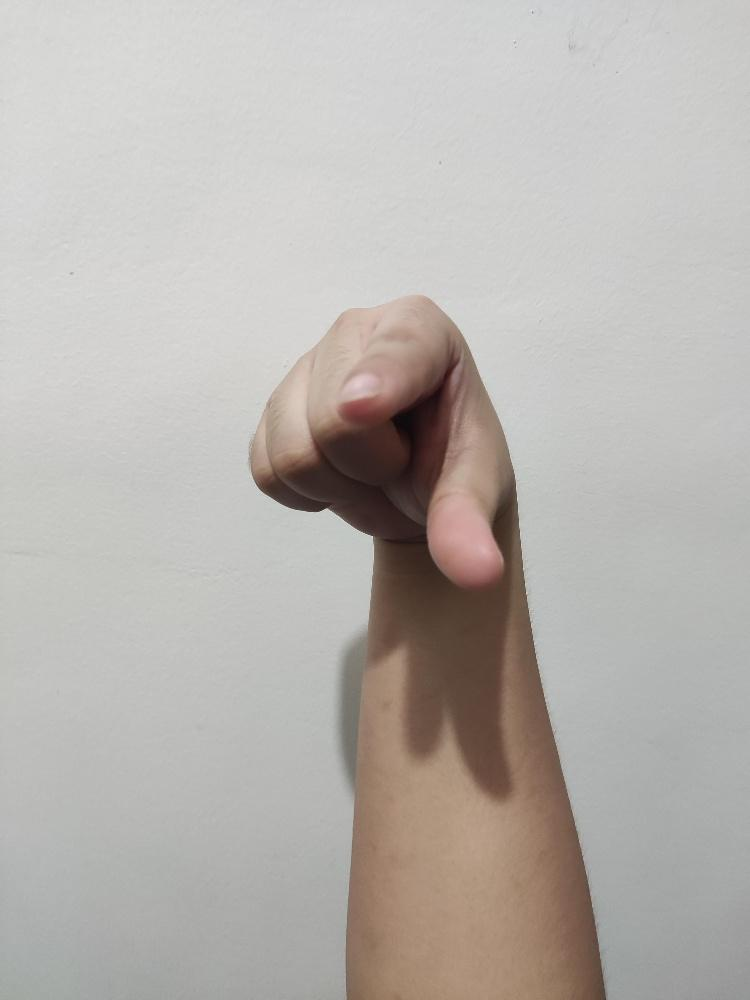z: (249, 293, 515, 591)
